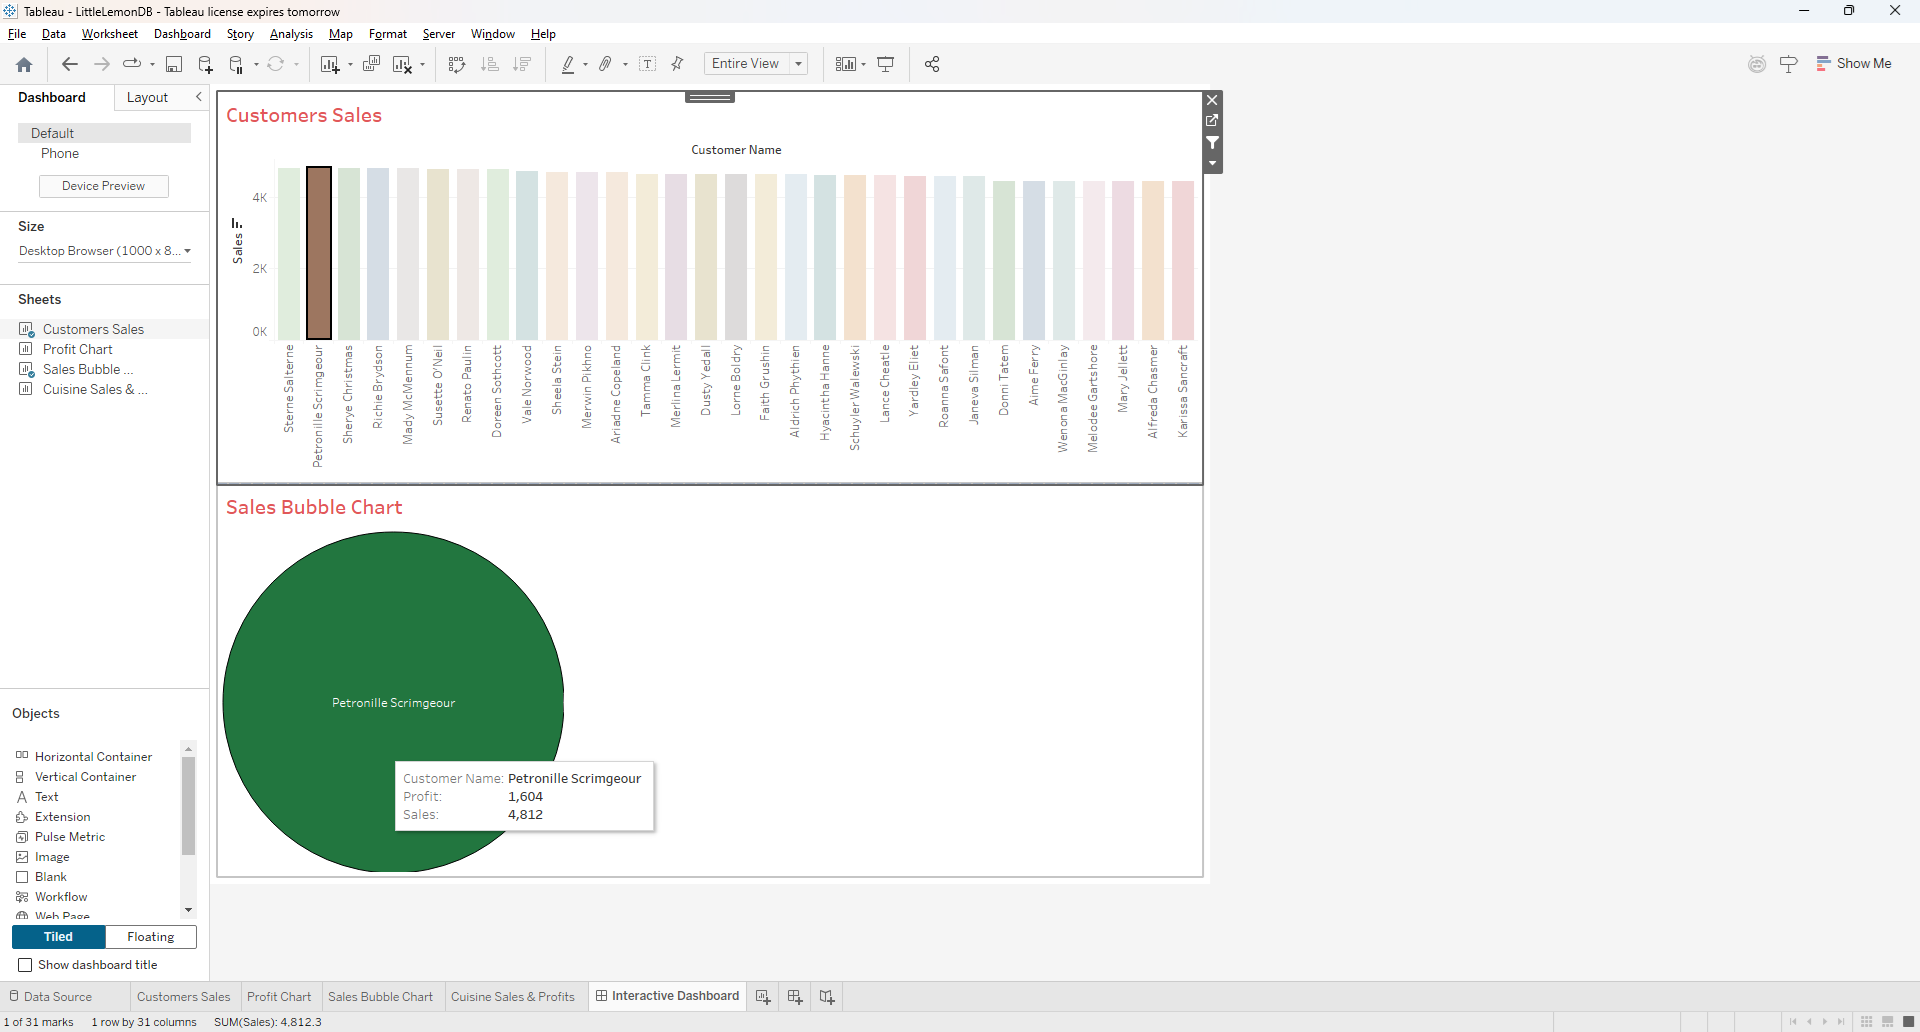

Layout of this report page (visuals, bound fields, positions):
{"tool":"tableau","page":{"name":"Interactive Dashboard","canvas":[1000,800],"ordinal":0},"visuals":[{"type":"worksheet","title":"Customers Sales","mark":"Automatic","rows":["Sales"],"cols":["Customer Name"],"box":[8,8,984,392]},{"type":"worksheet","title":"Sales Bubble Chart","mark":"Circle","box":[8,400,984,392]}]}

Visuals, with their boxes on the page's 1000x800 design canvas (x1, y1, x2, y2). These are canvas units, not pixel positions in the 1920x1032 screenshot, which may show the page scaled, cropped or inside an application window:
"Customers Sales" worksheet: Rect(8, 8, 992, 400)
"Sales Bubble Chart" worksheet (Circle marks): Rect(8, 400, 992, 792)
